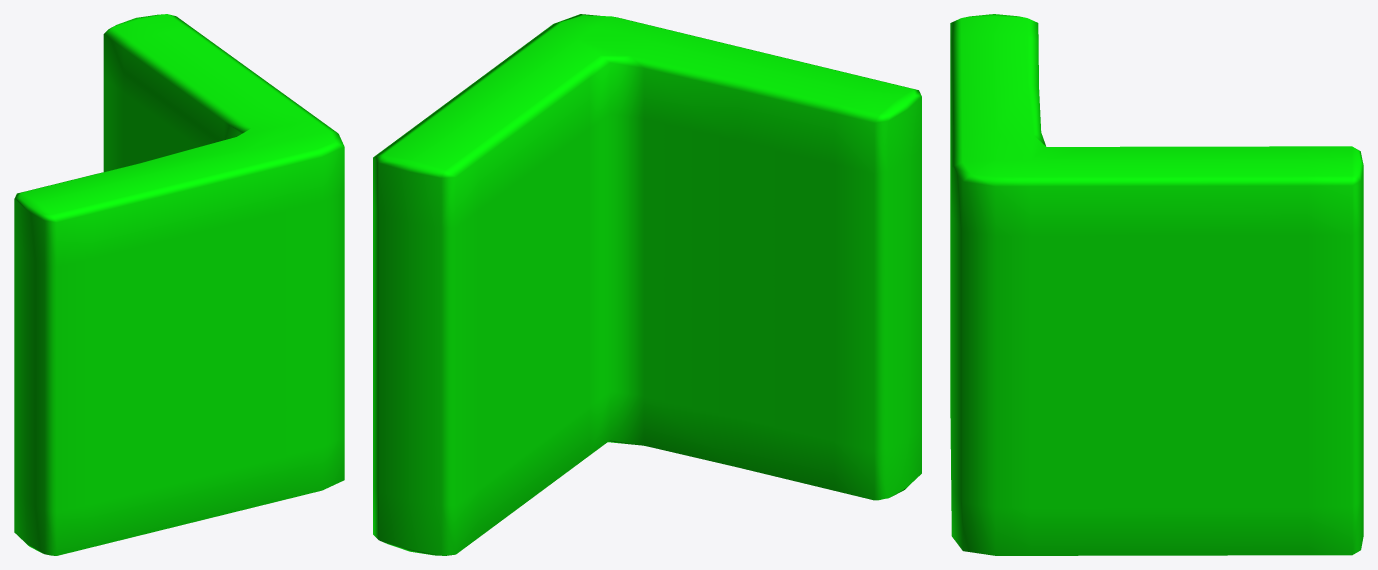
Rendered from esquina.fbx.
The picture shows the model from 3 angles, left to right: view 1: azimuth 30°, elevation 25°; view 2: azimuth 150°, elevation 25°; view 3: azimuth 270°, elevation 25°; orthographic projection. The views are drawn at different scales.
Visible parts, largest first — view 1: pCube14; view 2: pCube14; view 3: pCube14.
Part boxes in pixels (x1=…): pCube14: x1=14, y1=14, x2=344, y2=555; pCube14: x1=373, y1=14, x2=921, y2=555; pCube14: x1=950, y1=14, x2=1363, y2=555.
Size of the model in its own units: 4.28 by 4.5 by 4.43.
